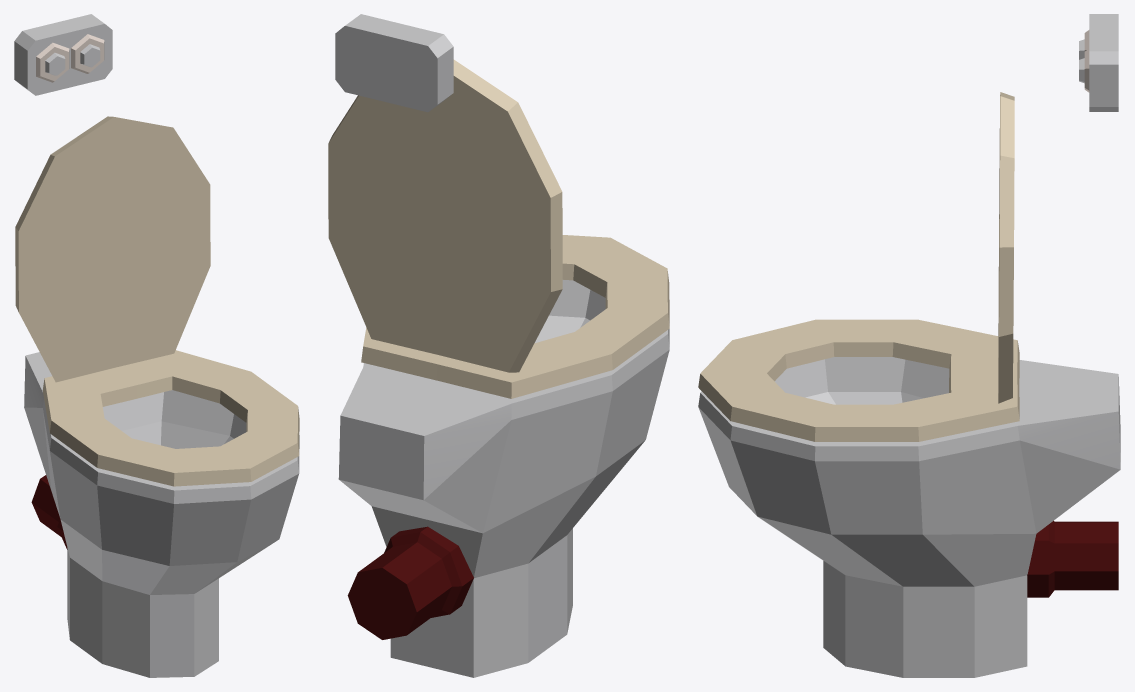
The model's file is Klop.fbx.
The picture shows the model from 3 angles, left to right: view 1: azimuth 30°, elevation 25°; view 2: azimuth 150°, elevation 25°; view 3: azimuth 270°, elevation 25°; orthographic projection. The views are drawn at different scales.
Parts seen in each view (by area): view 1: Toilet, Deska, Siedzenie, Klop; view 2: Toilet, Deska, Siedzenie, Klop; view 3: Toilet, Siedzenie, Deska, Klop.
Part boxes in pixels (x1,y1,x2,y2): Toilet: (24, 352, 299, 677); Deska: (15, 116, 210, 382); Siedzenie: (42, 350, 299, 486); Klop: (14, 14, 112, 95); Toilet: (338, 280, 669, 677); Deska: (328, 59, 562, 372); Siedzenie: (361, 235, 669, 398); Klop: (335, 14, 453, 112); Toilet: (698, 357, 1120, 677); Siedzenie: (698, 319, 1019, 441); Deska: (998, 92, 1014, 403); Klop: (1079, 14, 1118, 111).
Bounding box in the file's own units: 43.61 × 115 × 71.58.
1 material, 1 textured.
